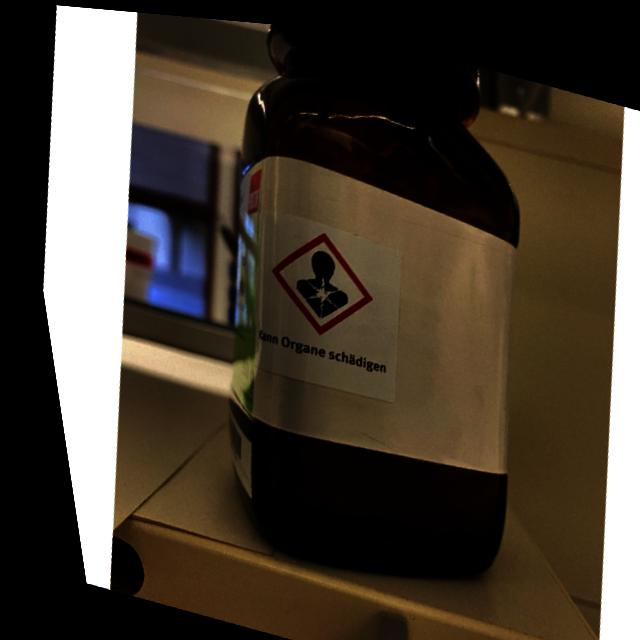serious health hazard: (279, 239, 350, 321)
